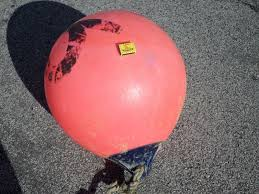buoy: (45, 11, 186, 155)
